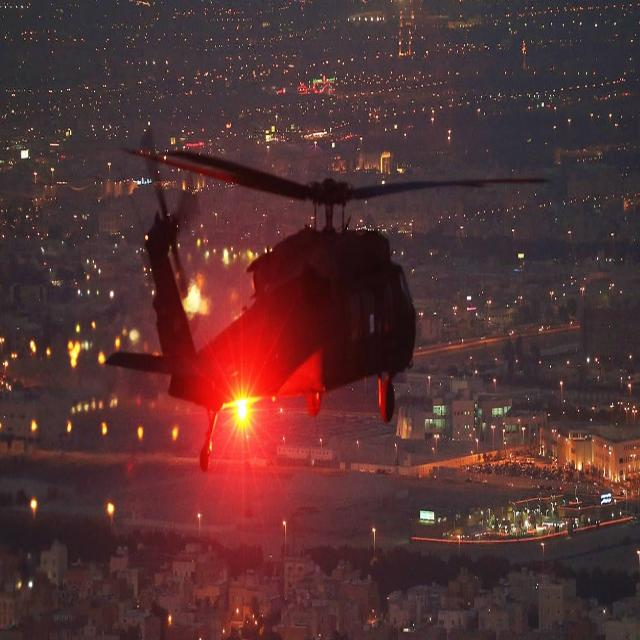helicopter: (115, 139, 555, 418)
